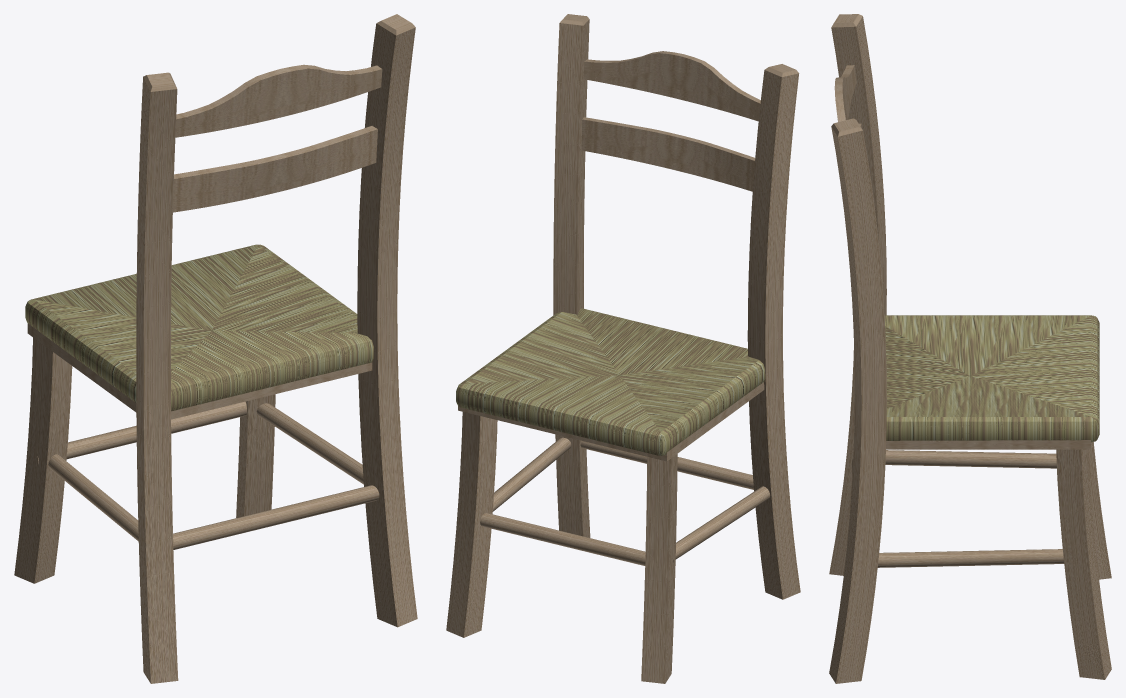
The model's file is chair55.obj.
3 renders of one model, left to right at view 1: azimuth 30°, elevation 25°; view 2: azimuth 150°, elevation 25°; view 3: azimuth 270°, elevation 25°, orthographic. The views are drawn at different scales.
Parts seen in each view (by area): view 1: main, seat; view 2: main, seat; view 3: main, seat.
Boxes of the visible parts, x1,y1,x2,y2 form: main: [14, 14, 417, 683]; seat: [25, 244, 373, 411]; main: [446, 14, 800, 683]; seat: [456, 308, 765, 455]; main: [829, 14, 1111, 683]; seat: [884, 315, 1099, 442].
Size of the model in its own units: 16.9 by 36.21 by 16.77.
Materials: 2 (2 with a texture image).
